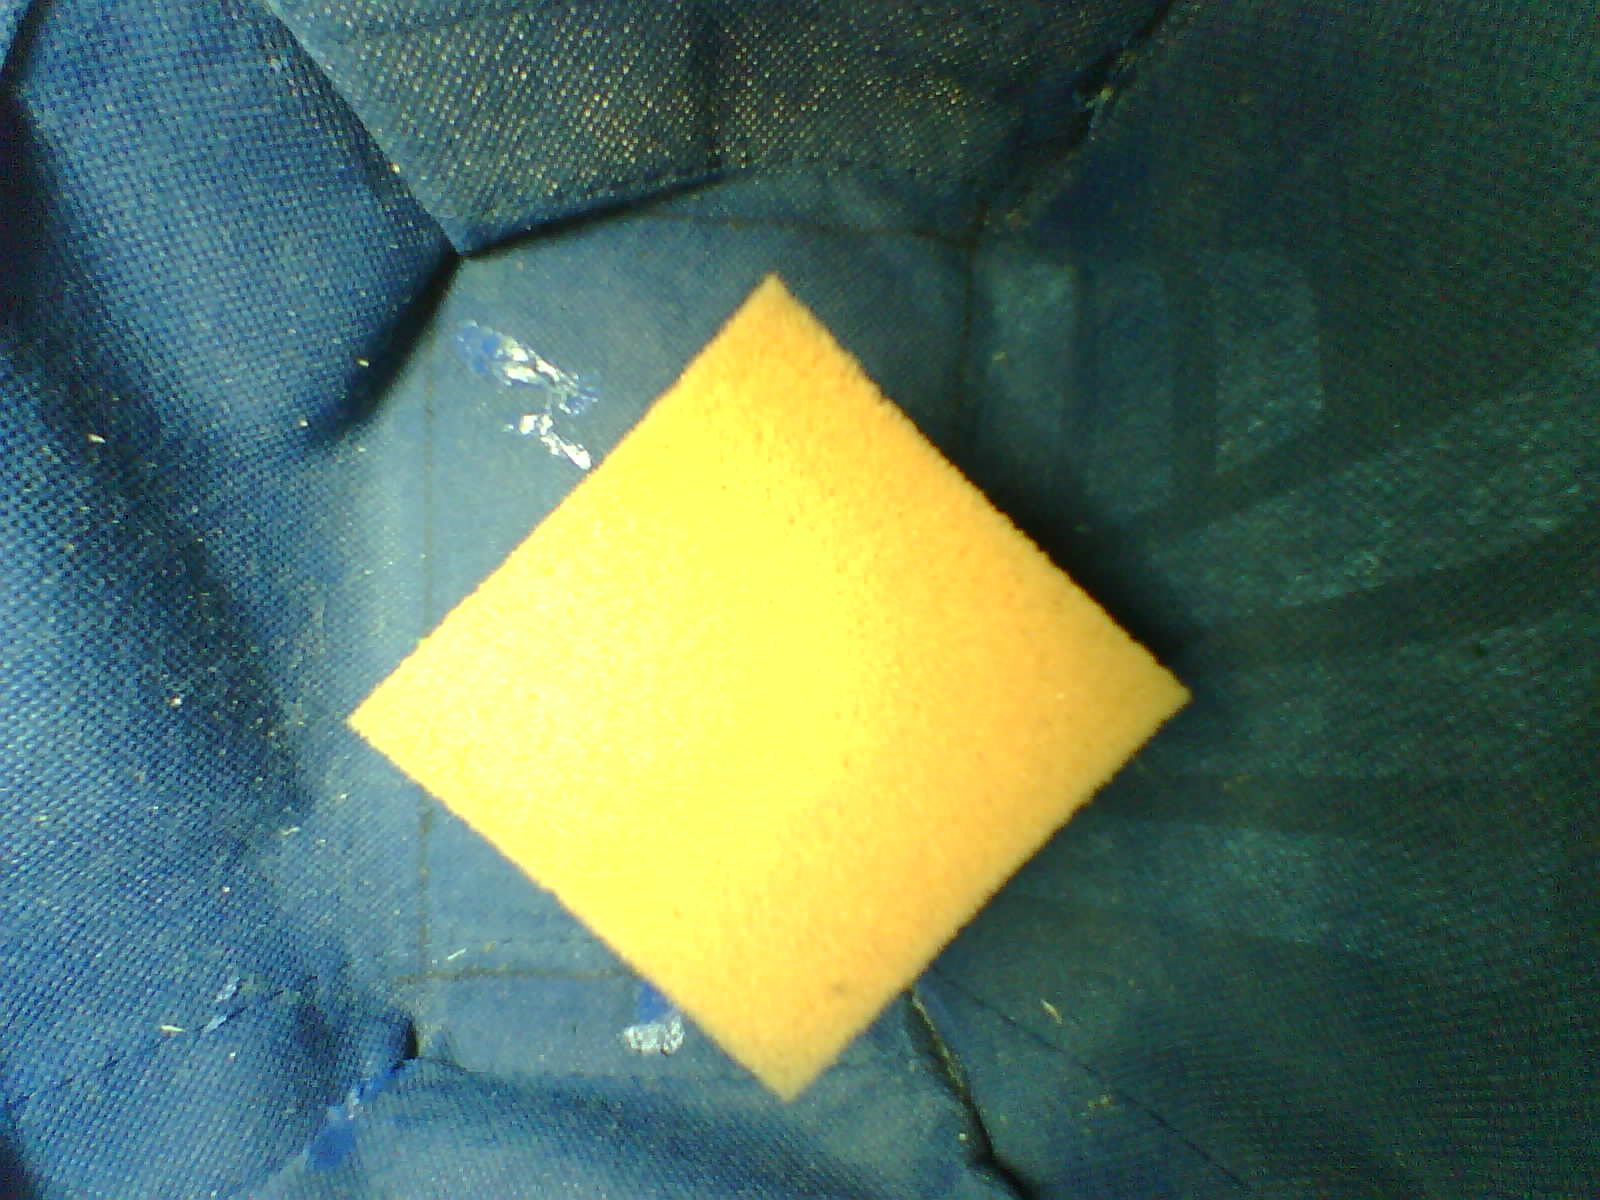cube-soft: (310, 260, 1208, 1129)
